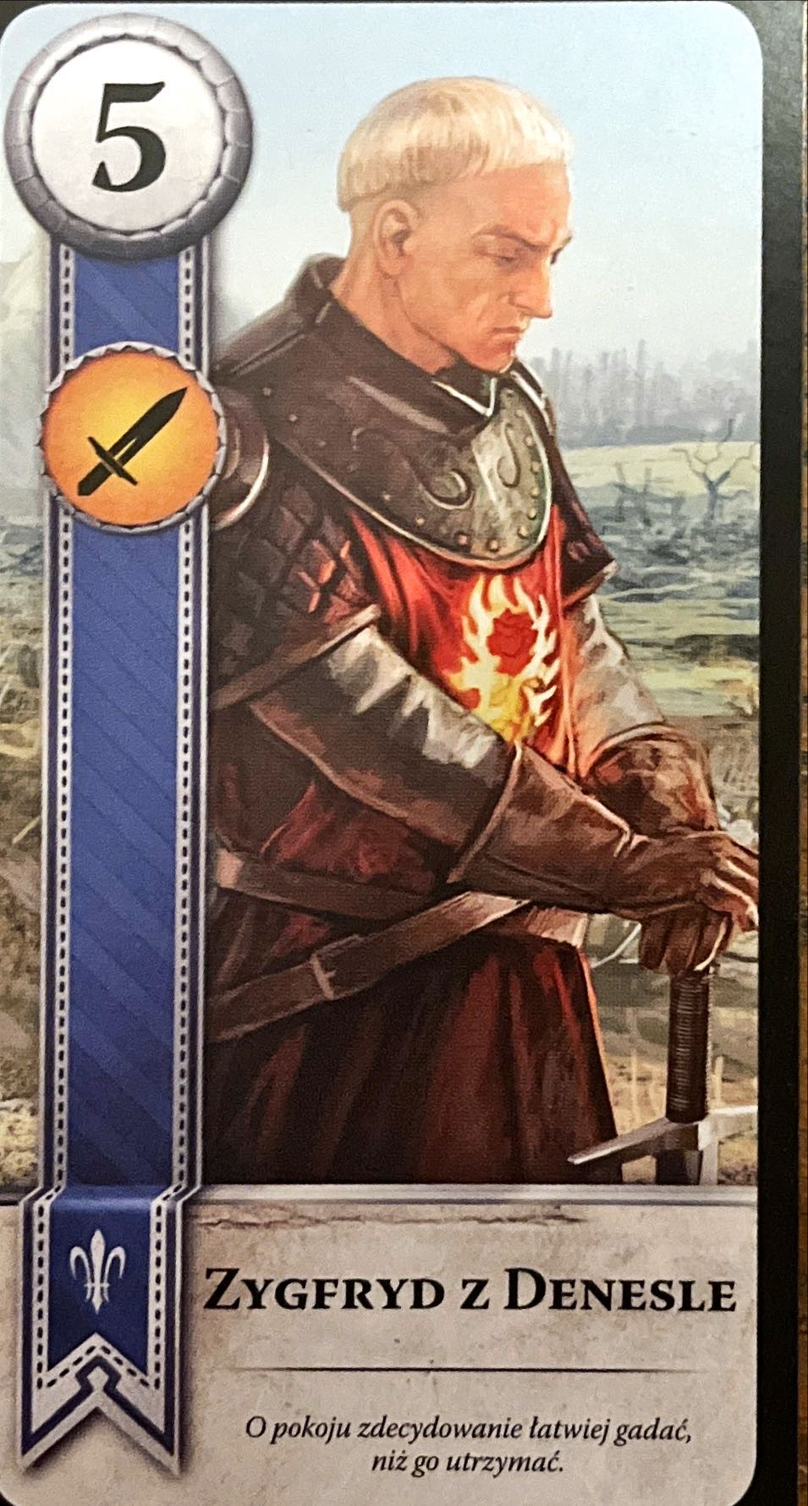5: (4, 8, 258, 262)
miecz: (33, 341, 224, 535)
